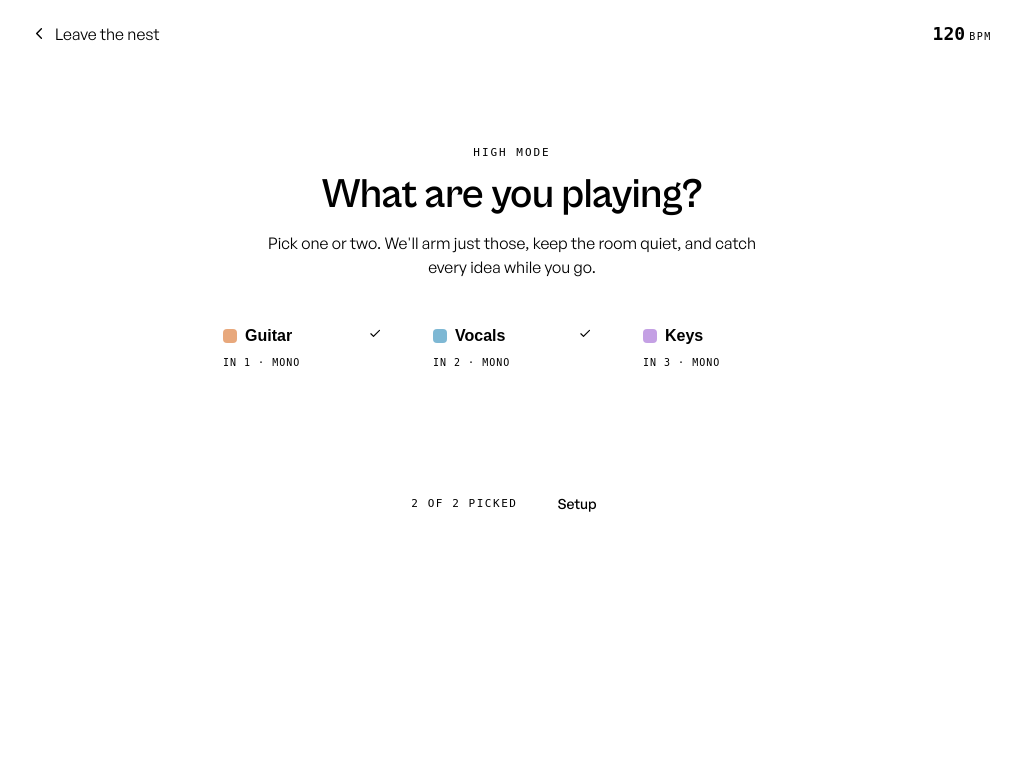
HighMode — setup (soundcheck) › selection lands on the input/FX setup screen with a card per chosen instrument
Click the button "Setup".
click(577, 504)  # box [542, 486, 613, 522]
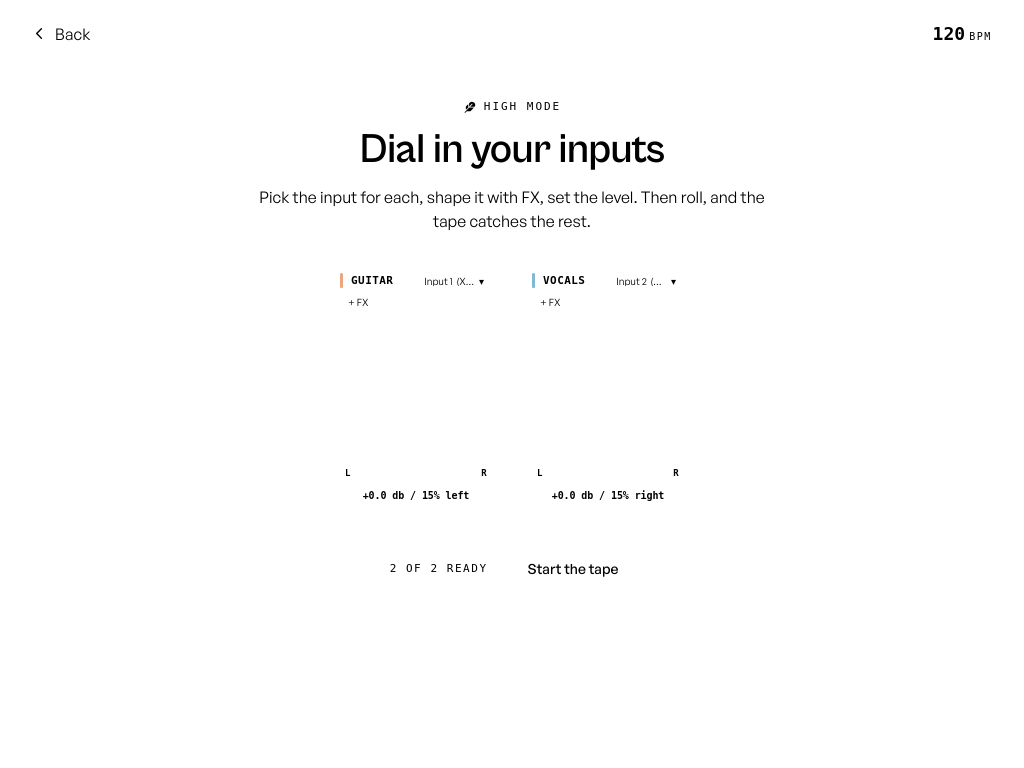
Expected: the heading "Dial in your inputs" is shown, [360, 128, 664, 173]
Expected: the element named "Guitar instrument" is shown, [332, 265, 500, 503]
Expected: the element named "Vocals instrument" is shown, [524, 265, 692, 503]
